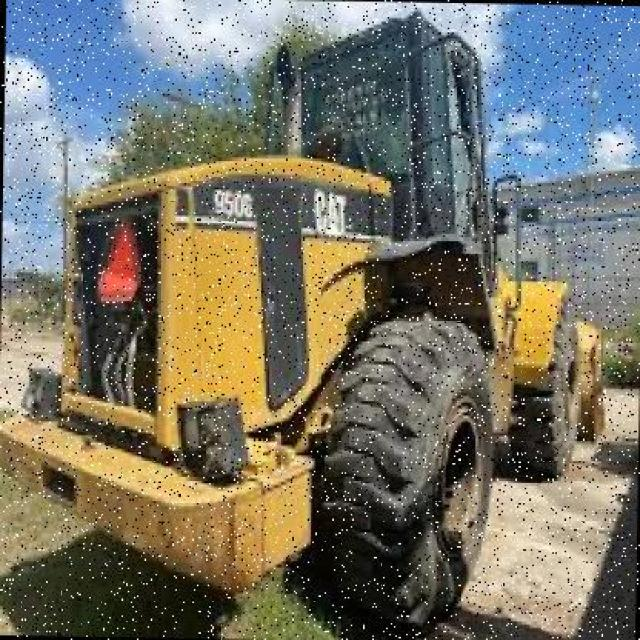buldozerpayloadergrader: (0, 0, 577, 622)
